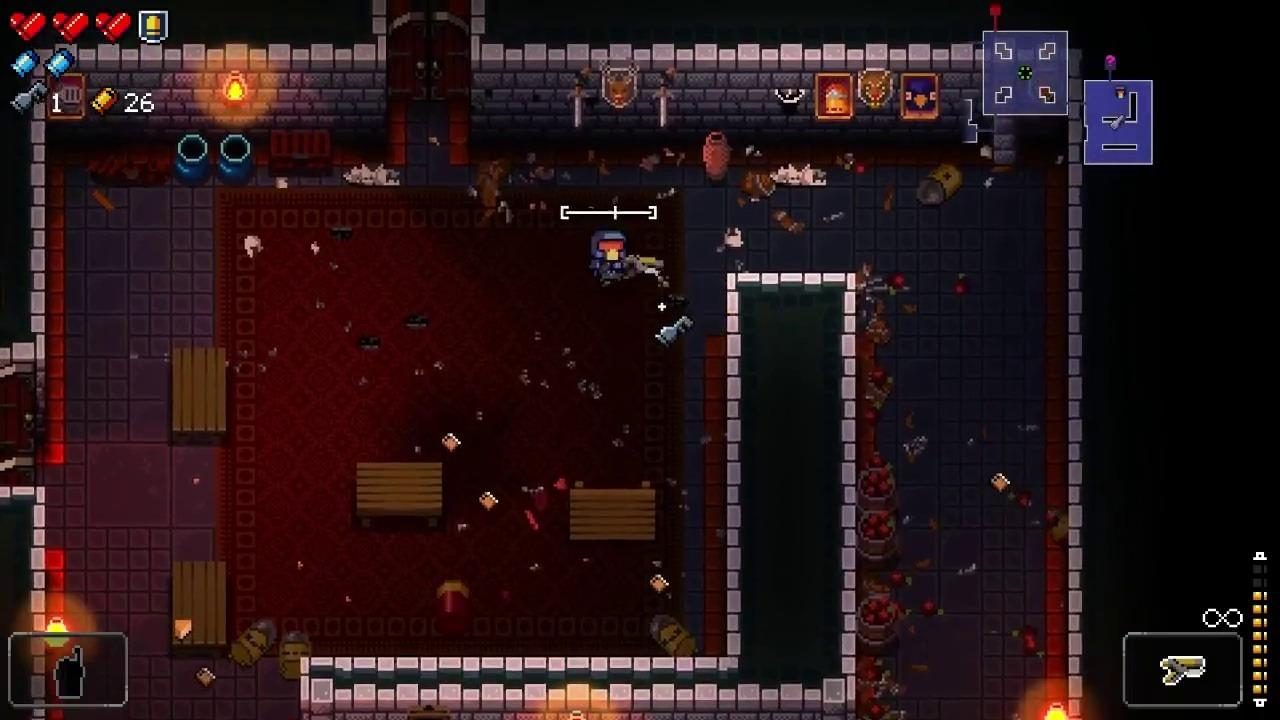bullet_kin: (229, 619, 278, 667), (915, 162, 964, 204)
dead_bullet_kin: (649, 614, 698, 657), (279, 629, 311, 680)
dead_red_shotgun_kin: (436, 579, 470, 633)
key: (654, 314, 693, 348)
player: (590, 228, 628, 278)
table: (355, 462, 441, 529), (173, 559, 227, 661), (172, 348, 226, 444), (570, 481, 655, 541)
unlocked_door: (385, 12, 473, 99), (0, 365, 35, 487)
